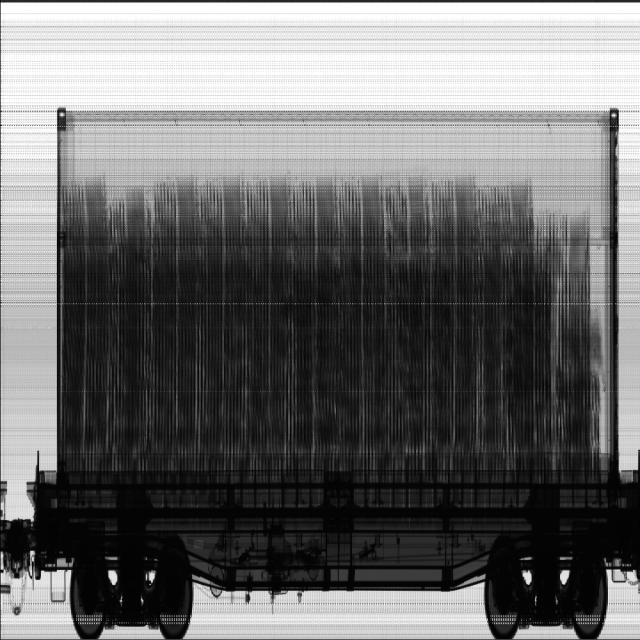auto parts: (533, 211, 595, 478)
